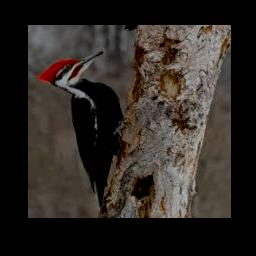Woodpecker: (37, 50, 124, 209)
